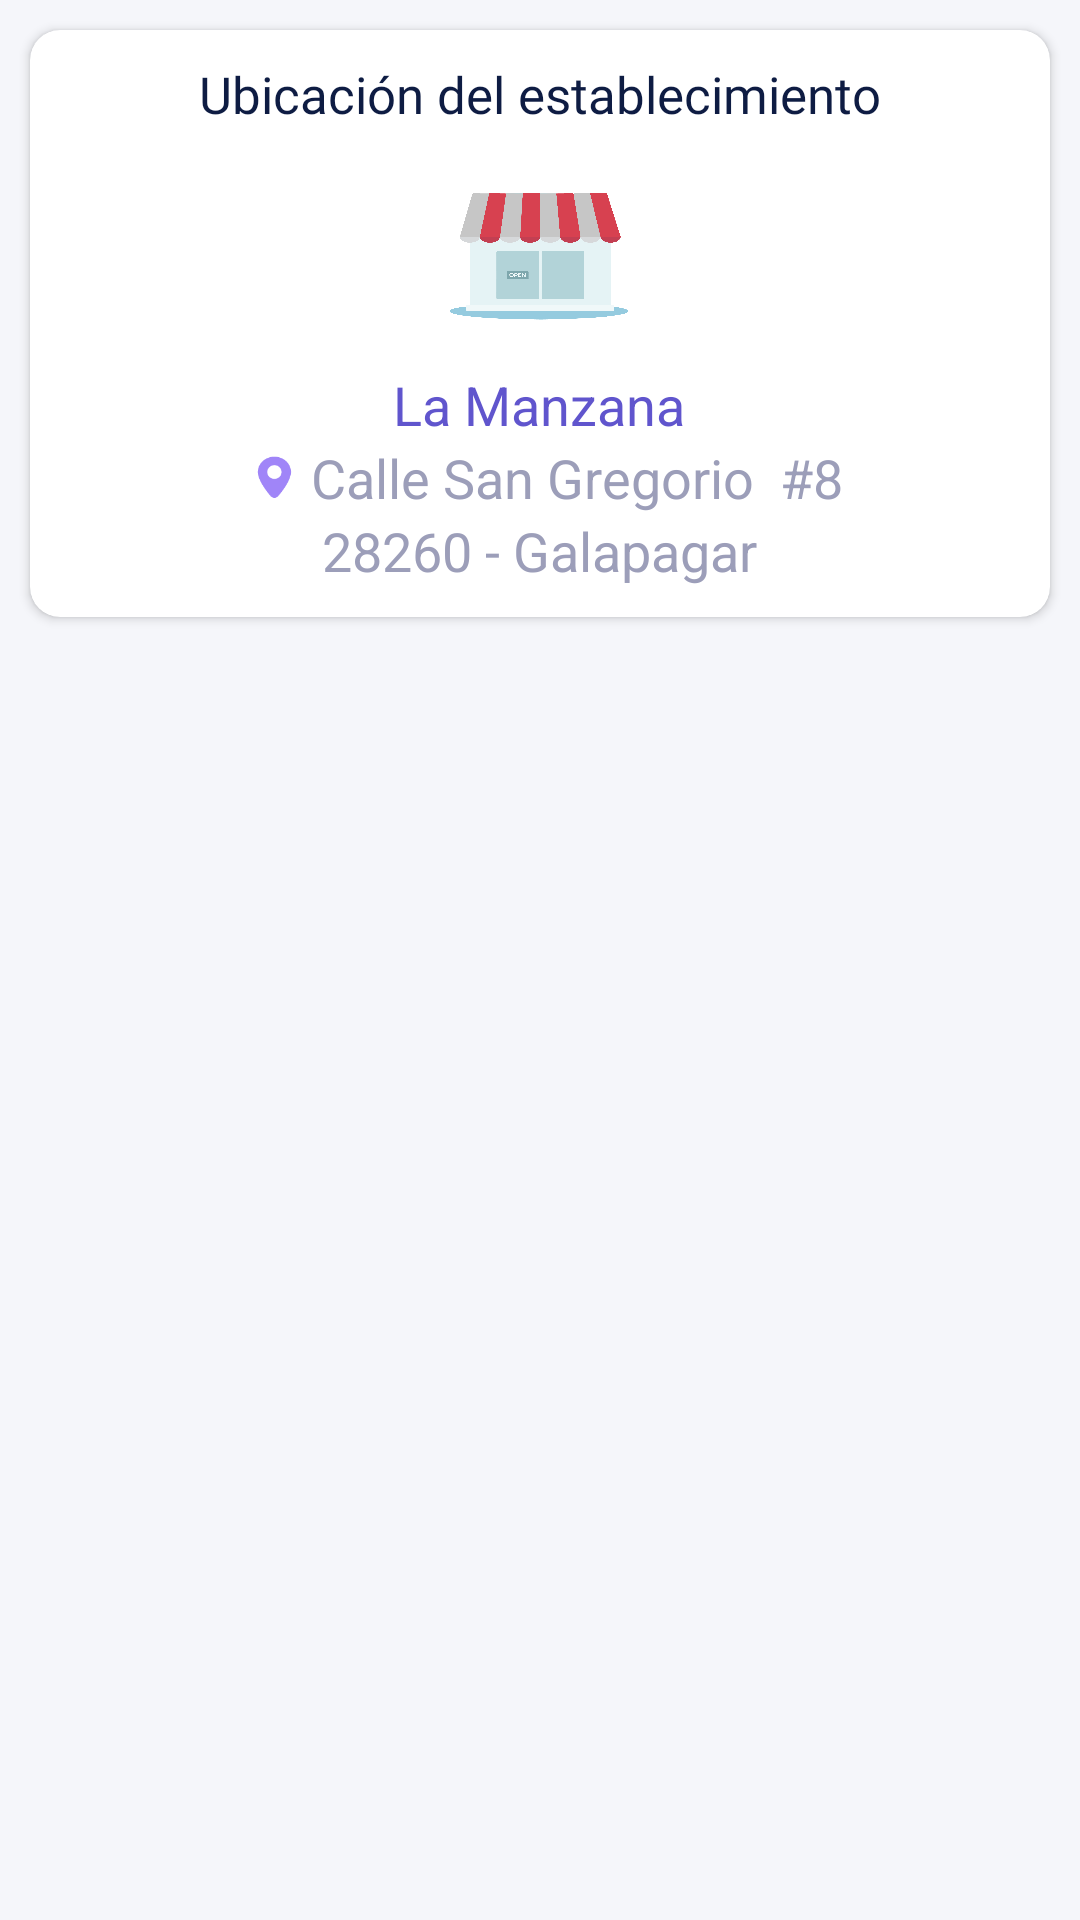

Locate icon controls on the screen. Image size 1080 × 1920, boxes as [left=x1, top=y1, right=x2, bottom=y2].
location: [left=258, top=456, right=291, bottom=498]
store: [left=450, top=193, right=628, bottom=320]
